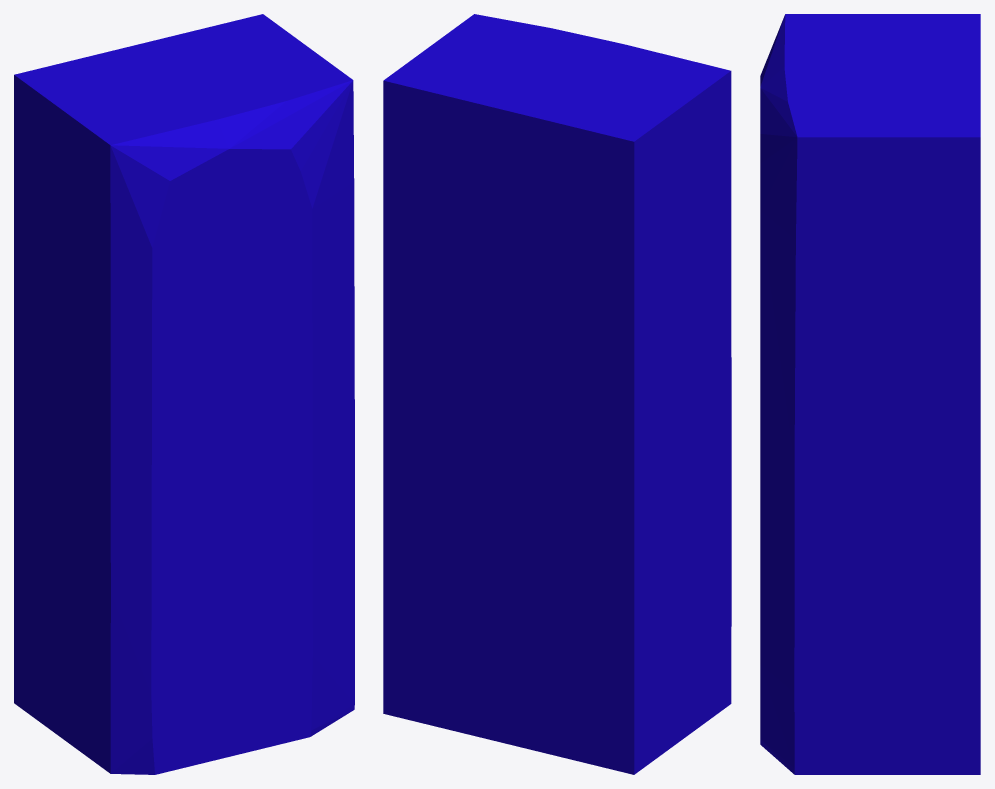
3 renders of one model, left to right at view 1: azimuth 30°, elevation 25°; view 2: azimuth 150°, elevation 25°; view 3: azimuth 270°, elevation 25°, orthographic.
Size of the model in its own units: 3.08 by 7.44 by 2.33.
